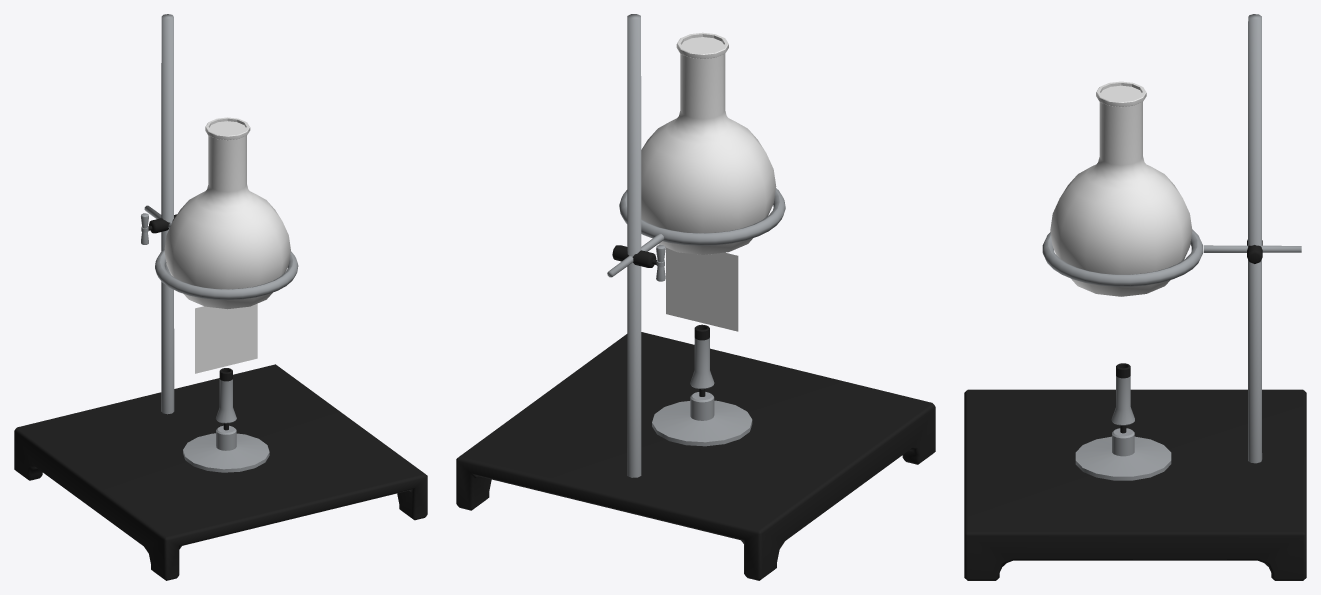
File: Ring Stand.fbx
The picture shows the model from 3 angles, left to right: view 1: azimuth 30°, elevation 25°; view 2: azimuth 150°, elevation 25°; view 3: azimuth 270°, elevation 25°; orthographic projection. The views are drawn at different scales.
Parts seen in each view (by area): view 1: RingStand, Glassware, Flame; view 2: RingStand, Glassware, Flame; view 3: RingStand, Glassware.
Boxes of the visible parts, <box> form: RingStand: <box>14,14,427,580</box>; Glassware: <box>164,117,290,309</box>; Flame: <box>195,303,257,373</box>; RingStand: <box>456,14,935,580</box>; Glassware: <box>641,32,776,254</box>; Flame: <box>666,247,738,331</box>; RingStand: <box>964,14,1306,580</box>; Glassware: <box>1050,81,1192,296</box>.
Size of the model in its own units: 28.24 by 44.86 by 28.24.
Materials: 1 (1 with a texture image).
